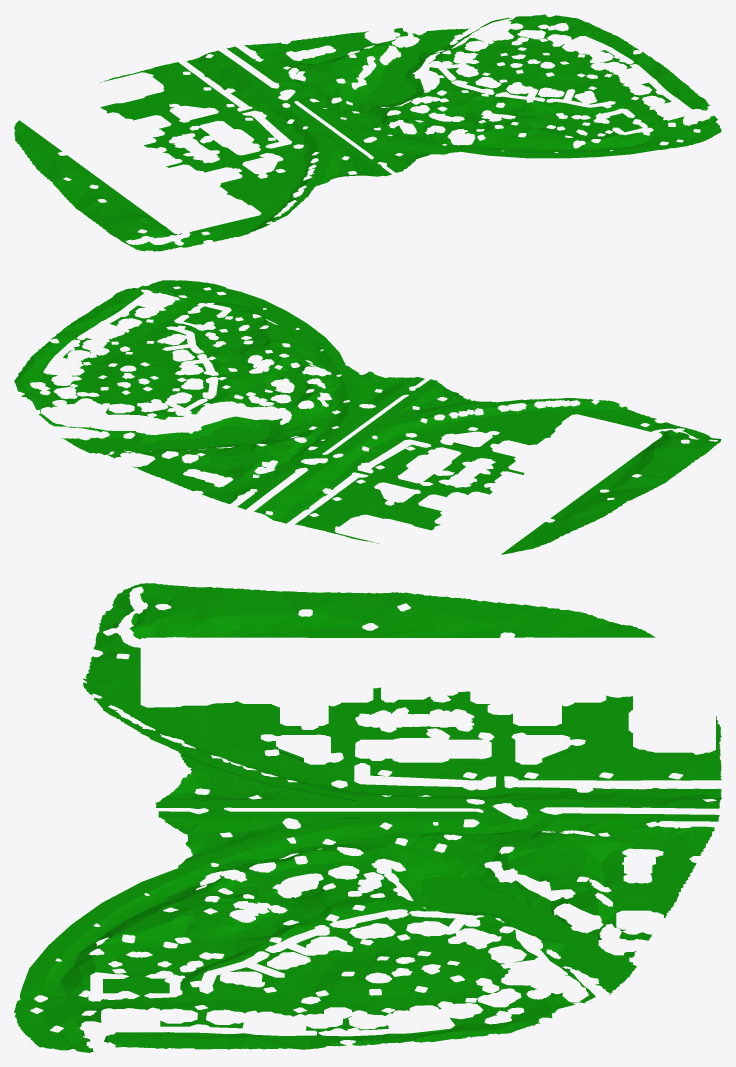
Rendered from Vehicle.obj.
The picture shows the model from 3 angles, top to bottom: view 1: azimuth 30°, elevation 25°; view 2: azimuth 150°, elevation 25°; view 3: azimuth 270°, elevation 25°; orthographic projection. The views are drawn at different scales.
Visible parts, largest first — view 1: ground; view 2: ground; view 3: ground.
Part boxes in pixels (<box>): ground: <box>14,14,721,251</box>; ground: <box>14,280,721,554</box>; ground: <box>14,583,721,1052</box>.
Size of the model in its own units: 614 by 14.87 by 393.
